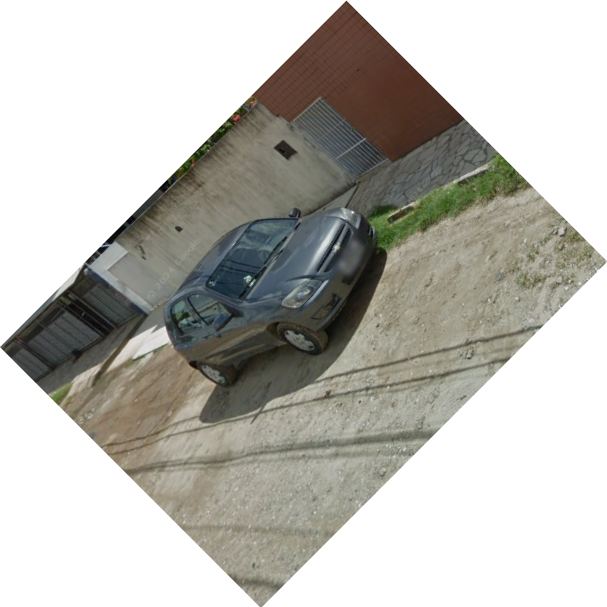car: (163, 206, 382, 388)
